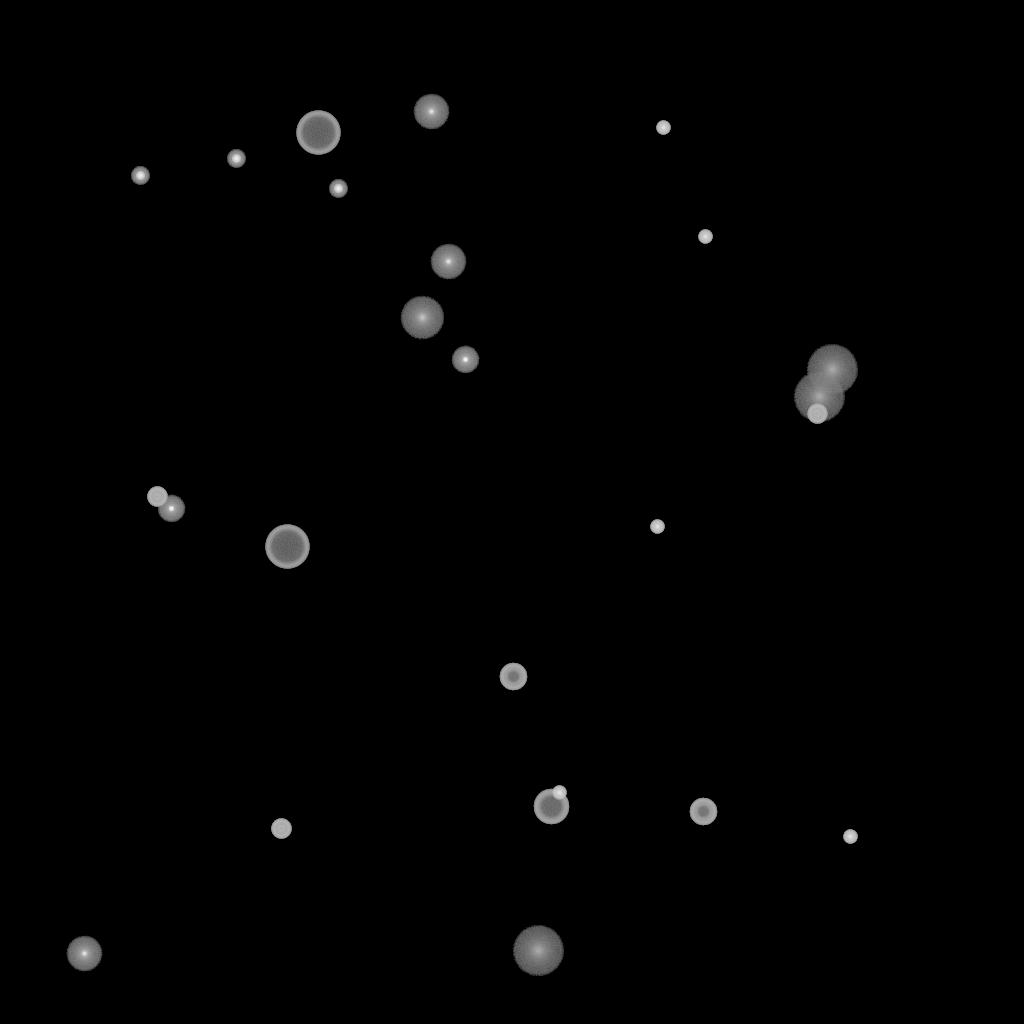depth:-10: (157, 495, 185, 523), (451, 346, 479, 374)
depth:-20: (227, 150, 245, 168), (329, 180, 347, 198), (131, 167, 149, 185)
depth:-30: (698, 230, 712, 244), (656, 121, 670, 135), (552, 786, 566, 800), (843, 830, 857, 844), (650, 520, 664, 534)
depth:-40: (807, 404, 827, 424), (271, 819, 291, 839), (147, 487, 167, 507)
depth:-50: (499, 663, 527, 691), (689, 798, 717, 826)
depth:-60: (533, 789, 569, 825)
depth:-70: (265, 525, 309, 569), (296, 111, 340, 155)
depth:0: (430, 244, 466, 280), (66, 936, 102, 972), (413, 94, 449, 130)
depth:10: (400, 296, 444, 340)
depth:20: (806, 345, 858, 395), (793, 372, 845, 422), (512, 926, 564, 976)
